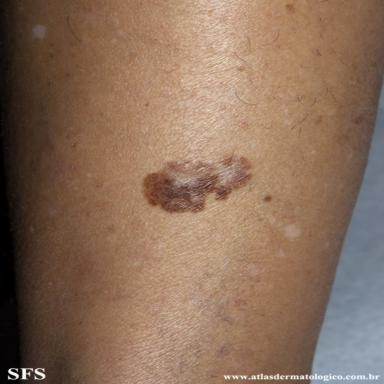Melanoma: (143, 156, 251, 212)
